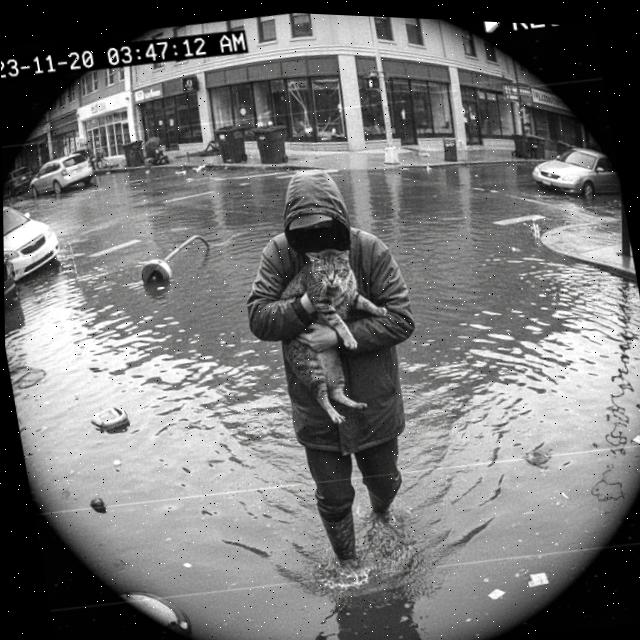cat: (272, 231, 407, 433)
civilian: (217, 142, 473, 596)
